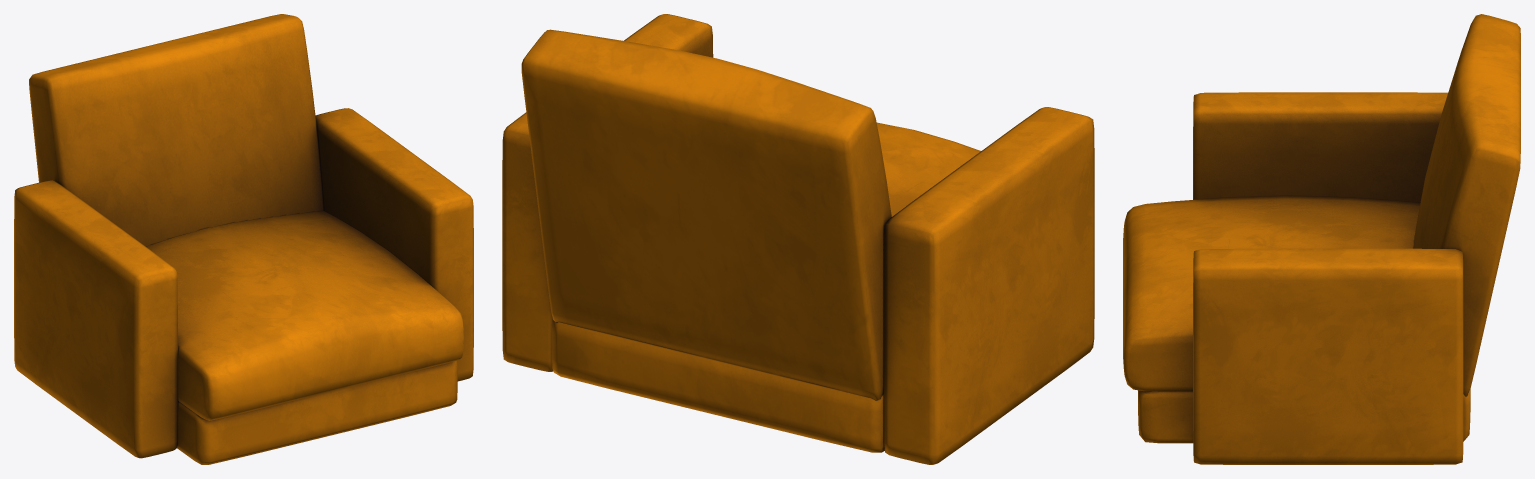
The model's file is alvia_velvet.fbx.
3 views of the same model, side by side, from view 1: azimuth 30°, elevation 25°; view 2: azimuth 150°, elevation 25°; view 3: azimuth 270°, elevation 25° (orthographic). The views are drawn at different scales.
Parts seen in each view (by area): view 1: Alvia Velvet Accent Chair; view 2: Alvia Velvet Accent Chair; view 3: Alvia Velvet Accent Chair.
Part boxes in pixels (box(x1,y1,x2,y2)): Alvia Velvet Accent Chair: box(14, 14, 473, 464); Alvia Velvet Accent Chair: box(502, 14, 1094, 464); Alvia Velvet Accent Chair: box(1123, 14, 1520, 464).
Size of the model in its own units: 1.75 by 1.37 by 1.64.
